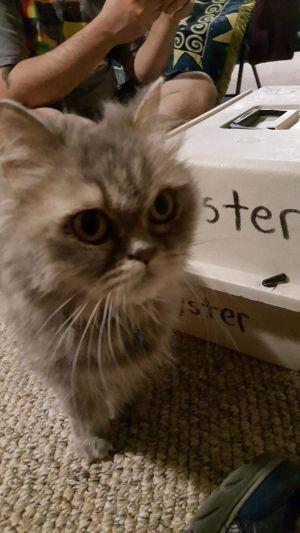persian: (1, 73, 208, 324)
